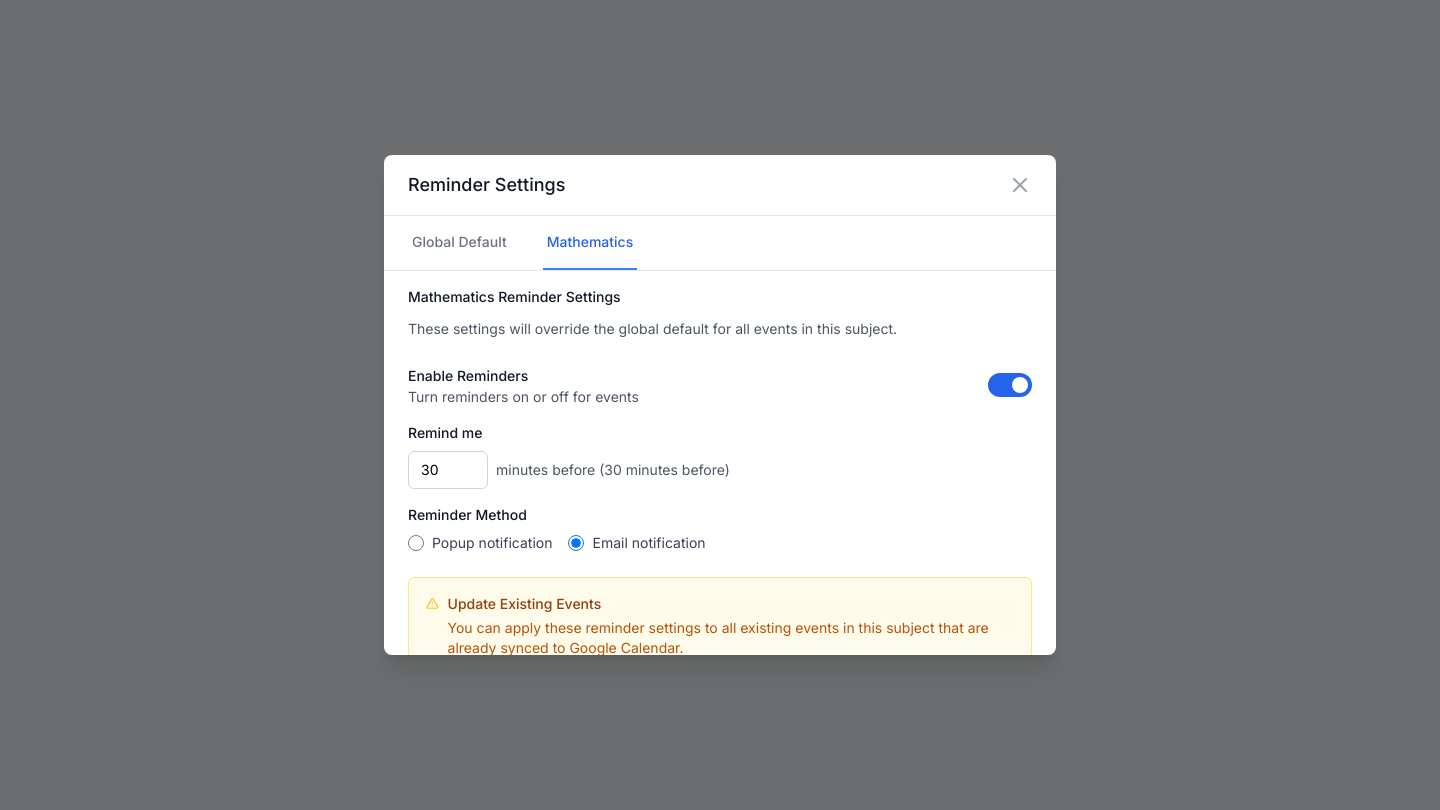
Test case: ReminderSettings › should switch between tabs
The width and height of the screenshot is (1440, 810).
Expected: the heading "Mathematics Reminder Settings" is shown, 408,288 -> 621,305
Note: Switch to global tab
Click the button "Global Default" at (459, 243), box 408,216 -> 511,270
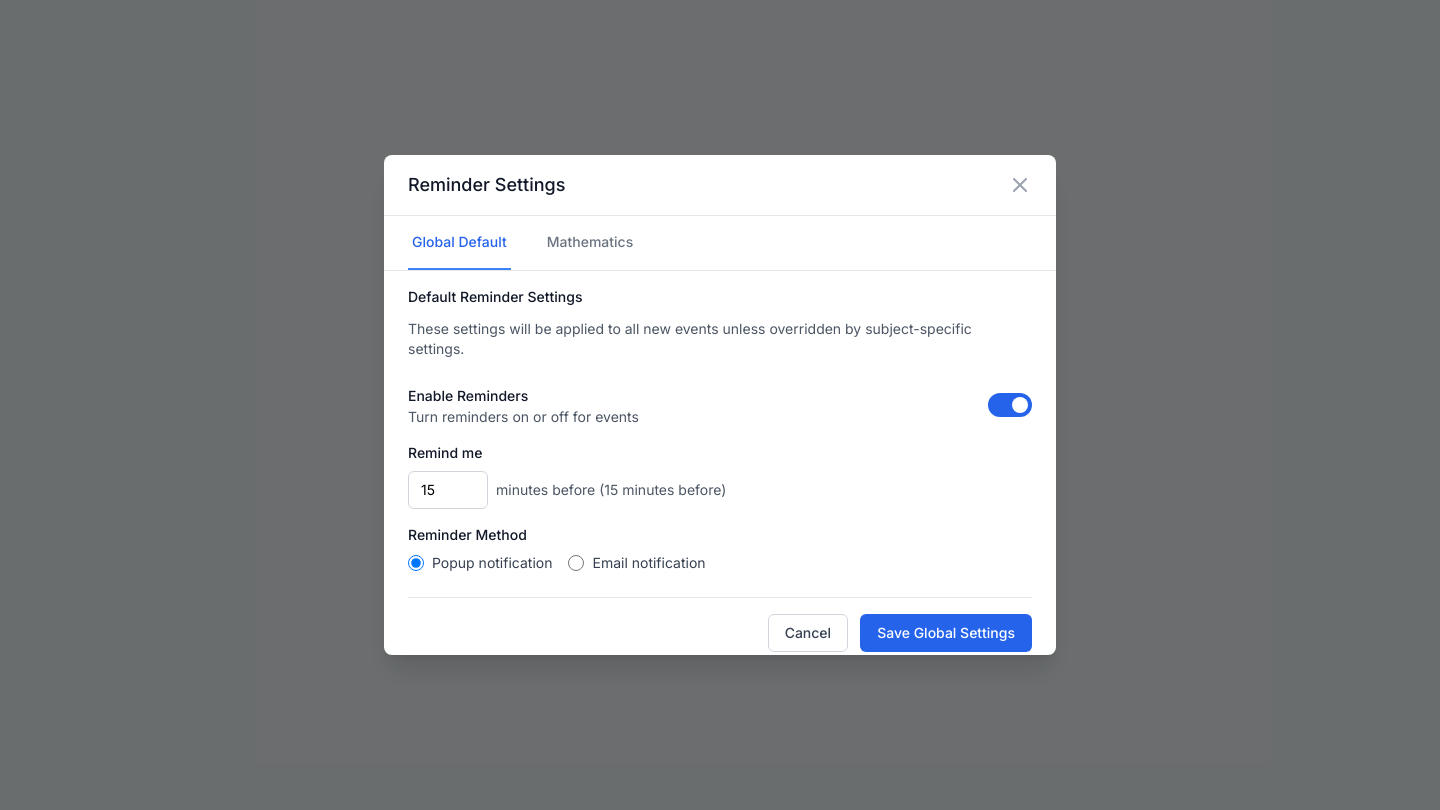
Result: the heading "Default Reminder Settings" is shown at 408,288 -> 582,305
